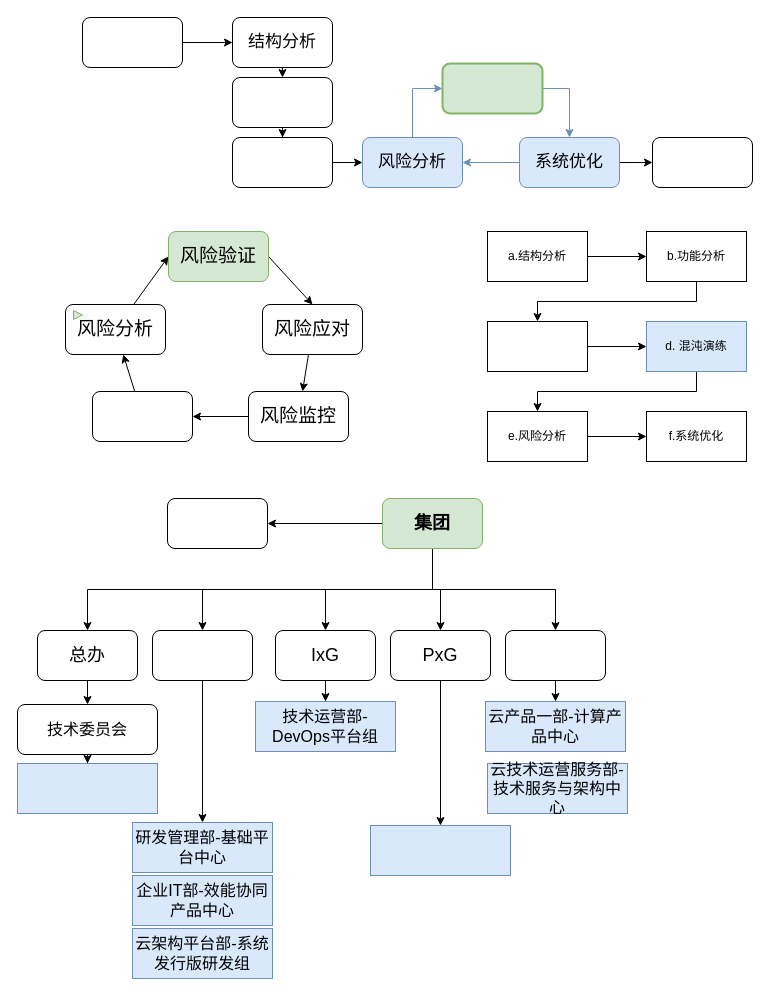
Image size: 770x996. Some labels were removed from this diagram. The centre of each missing label's shape, as x and y in pixels:
"c. 失效分析" goes at (x=537, y=346).
"CxxG" goes at (x=555, y=655).
"S线（管理线）" goes at (x=217, y=523).
"Tx G" goes at (x=202, y=655).
"功能分析" goes at (x=282, y=102).
"失效分析" goes at (x=282, y=162).
"应用架构平台部-行业产品中心" goes at (x=440, y=850).
"开源协同小组" goes at (x=87, y=788).
"文件化" goes at (x=702, y=162).
"混沌验证" goes at (x=492, y=88).
"策划与准备" goes at (x=132, y=42).
"风险识别" goes at (x=142, y=416).
